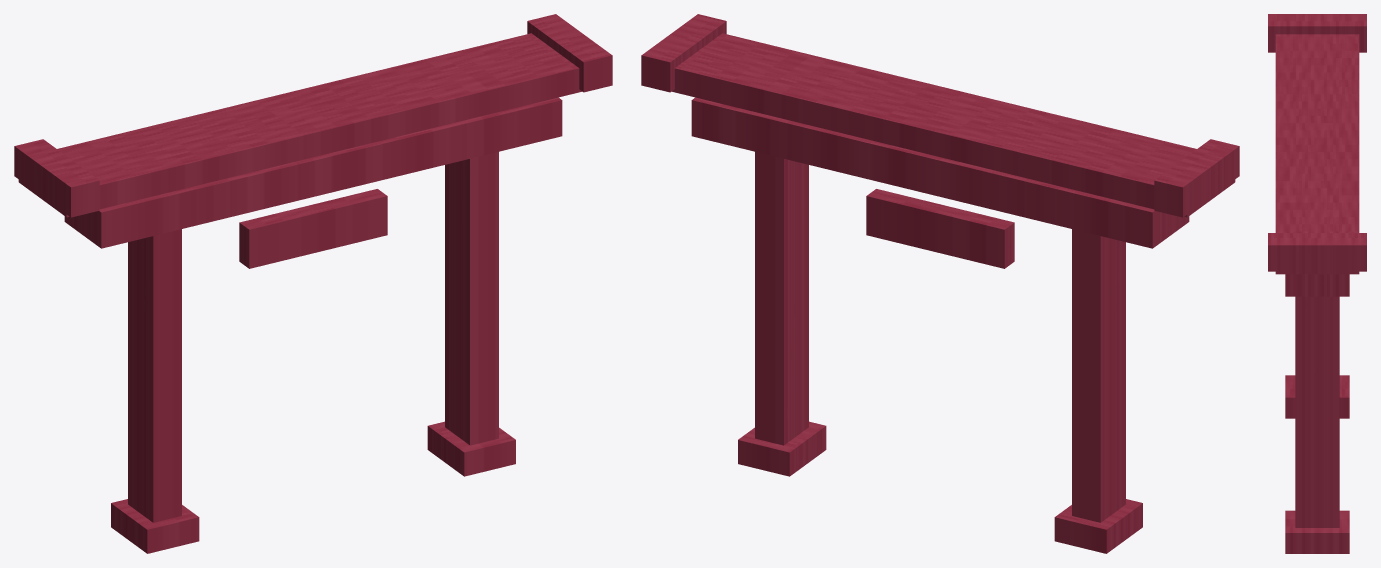
File: KGB_Dojo_CeremonialTorii_v16_lod0.glb
3 views of the same model, side by side, from view 1: azimuth 30°, elevation 25°; view 2: azimuth 150°, elevation 25°; view 3: azimuth 270°, elevation 25° (orthographic). The views are drawn at different scales.
Visible parts, largest first — view 1: world; view 2: world; view 3: world.
Boxes of the visible parts, x1=… form: world: x1=14, y1=14, x2=612, y2=553; world: x1=641, y1=14, x2=1239, y2=553; world: x1=1268, y1=14, x2=1366, y2=553.
Bounding box in the file's own units: 9.4 × 6.55 × 1.7.
1 material, 1 textured.
